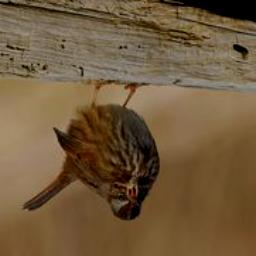Sparrow: (18, 80, 158, 223)
